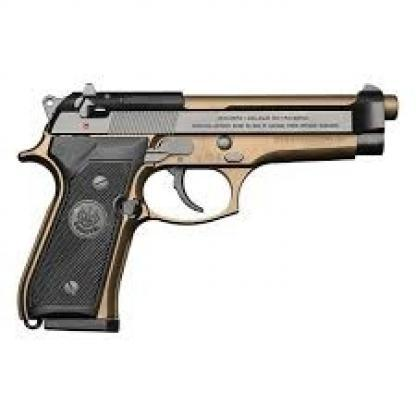Pistol: (15, 80, 402, 330)
